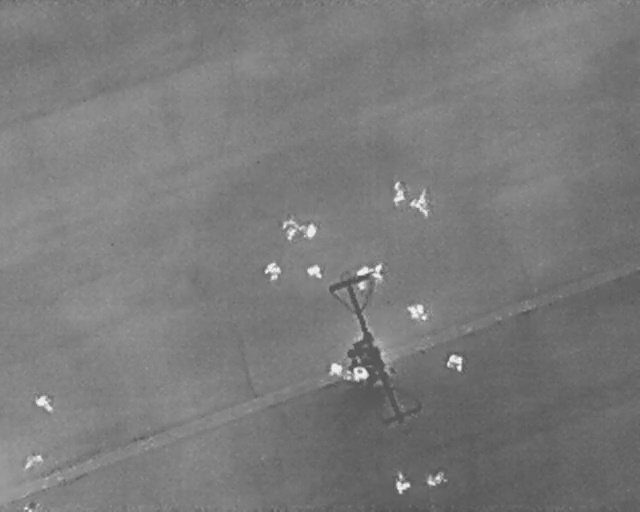Person: (409, 187, 429, 218), (282, 214, 298, 242), (34, 393, 54, 413), (391, 180, 404, 208), (263, 262, 281, 281), (447, 353, 465, 372), (357, 264, 370, 289), (304, 263, 323, 280), (395, 473, 410, 494), (427, 472, 448, 486), (409, 304, 427, 320), (300, 223, 317, 239), (353, 367, 368, 382), (329, 361, 342, 376), (372, 261, 383, 278), (23, 503, 41, 511)
